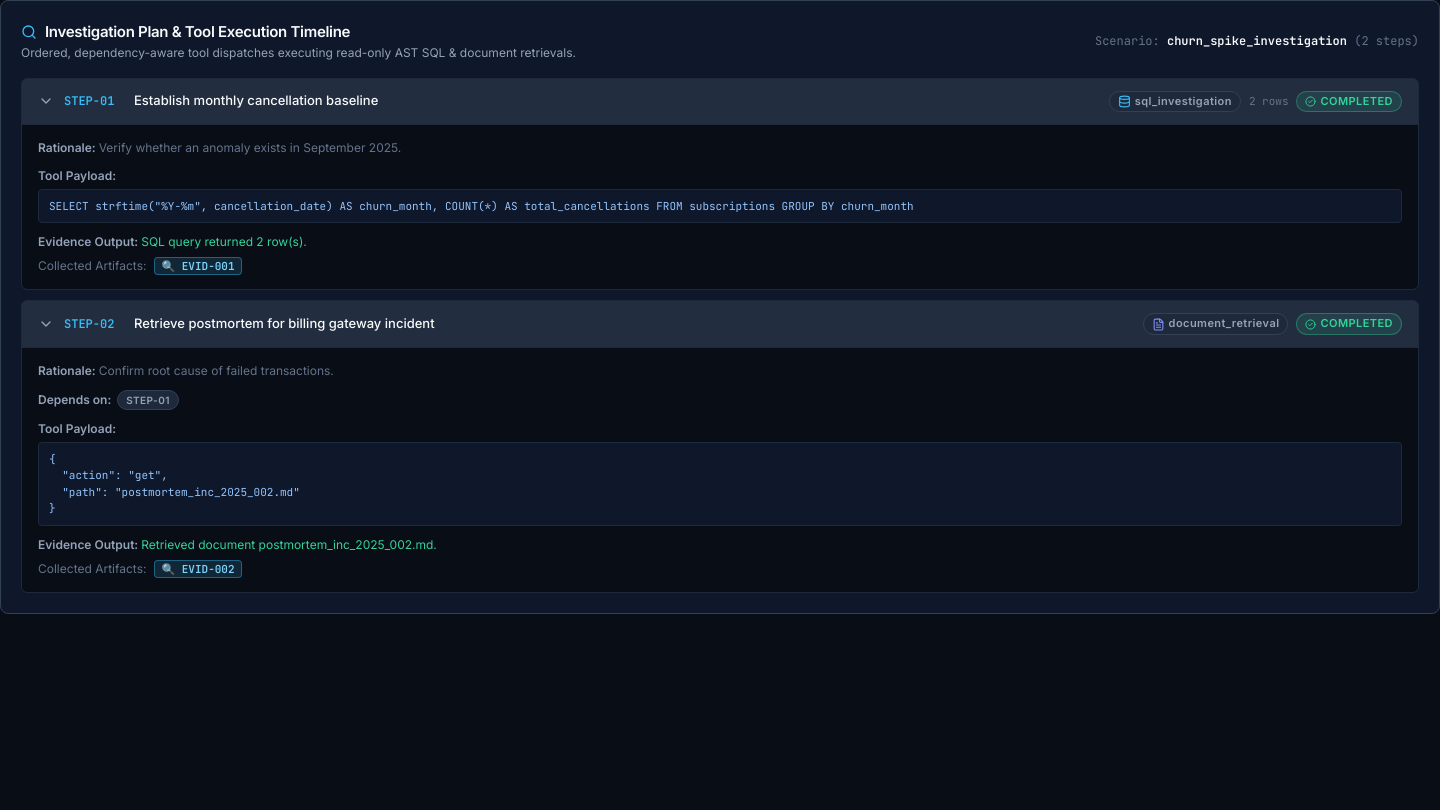
Scenario: InvestigationTimeline component › toggles step collapse and expand
expect the text "Verify whether an anomaly exists in September 2025." is shown: met, box [99,140,401,155]
What coordinates should you click on to do the following:
click the text "Establish monthly cancellation baseline"
I would click on:
 (256, 101)
Its box is [134,91,378,111].
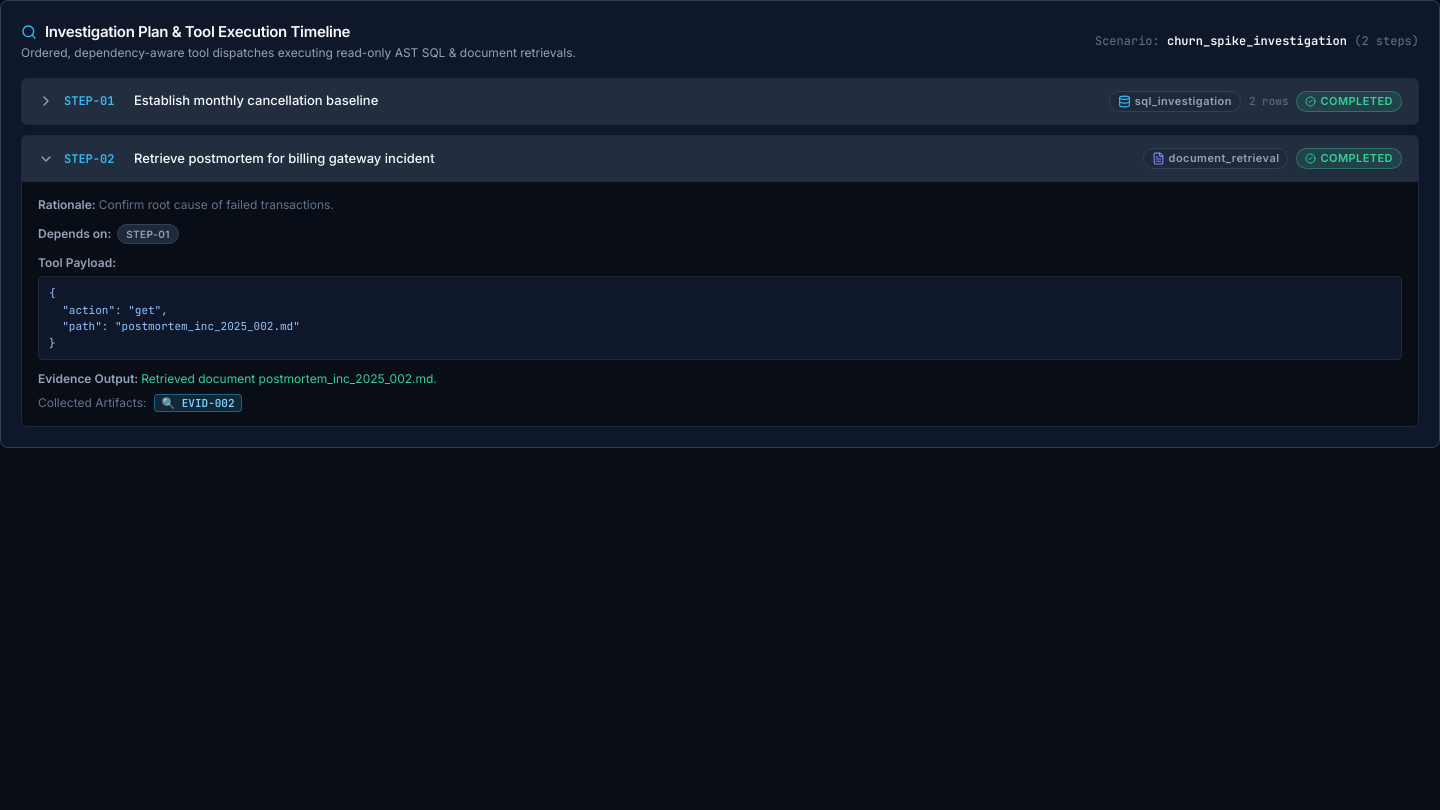
expect the text "Verify whether an anomaly exists" is gone: met
